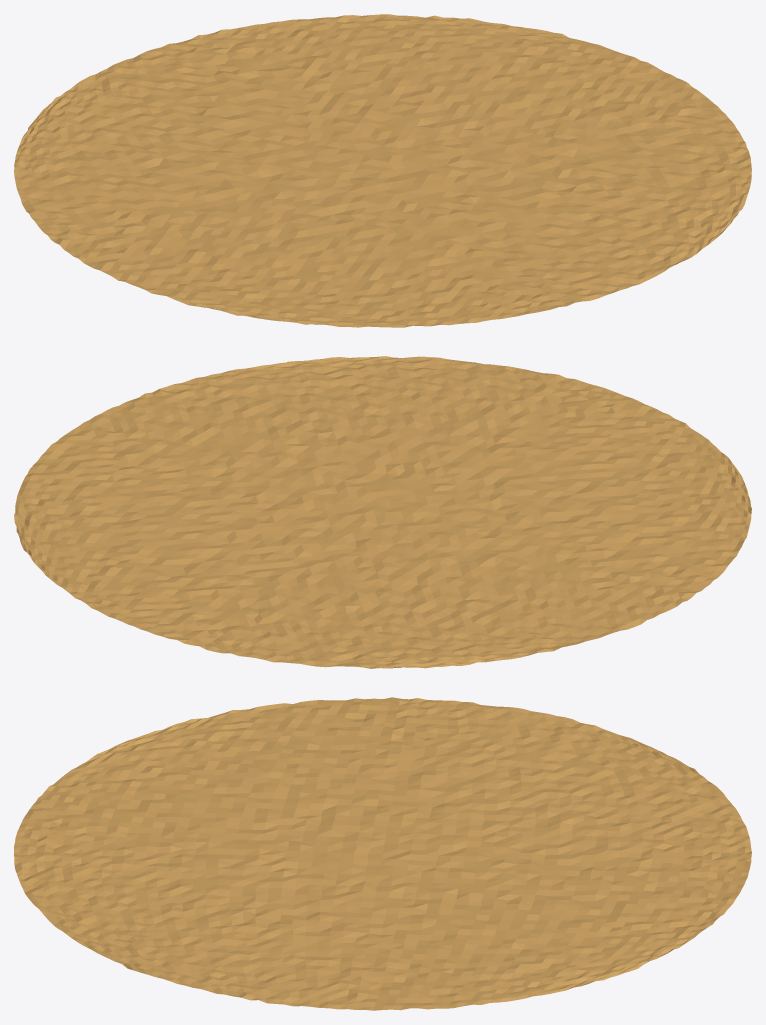
The model's file is world_3_terrain.dae.
The picture shows the model from 3 angles, top to bottom: view 1: azimuth 30°, elevation 25°; view 2: azimuth 150°, elevation 25°; view 3: azimuth 270°, elevation 25°; orthographic projection.
Parts seen in each view (by area): view 1: Circle_001; view 2: Circle_001; view 3: Circle_001.
Part boxes in pixels (<box>): Circle_001: <box>14,14,751,327</box>; Circle_001: <box>14,356,751,668</box>; Circle_001: <box>14,697,751,1010</box>.
Size of the model in its own units: 128 by 128 by 0.5962.
